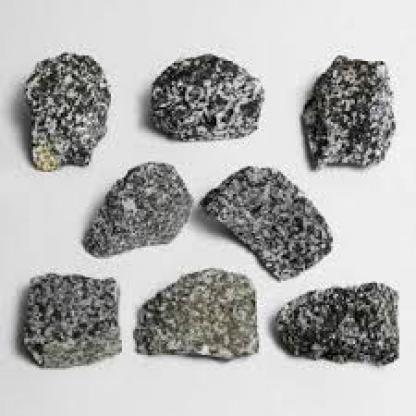Igneous_Diorite: (194, 166, 344, 270), (137, 266, 262, 364), (18, 44, 111, 168), (277, 281, 403, 370), (148, 52, 264, 144), (15, 266, 127, 361), (298, 52, 388, 168), (82, 161, 188, 259)
